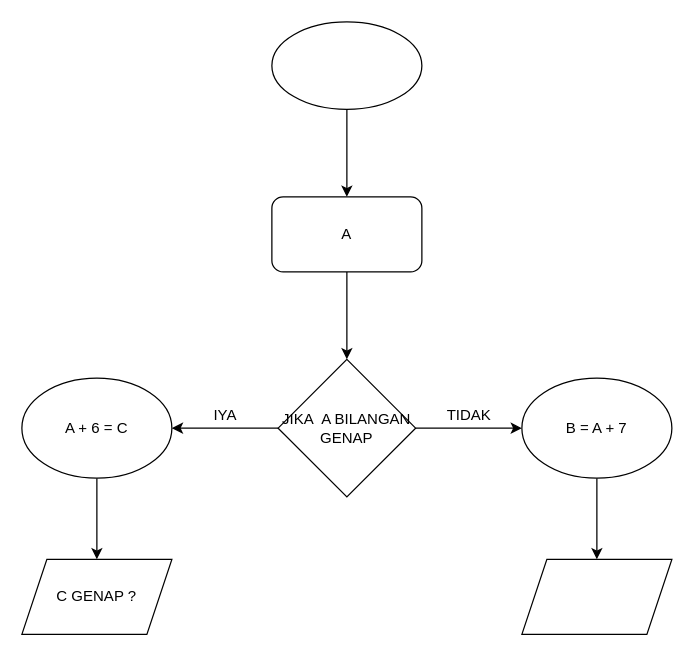
Some shapes in this 694 by 656 pixel diagram are drawn without their labels. The shapes that lost their labels are listed below. From the top down, each one's centre as x and y in pixels, then its label:
(346,65): START
(596,596): B GENAP ?
